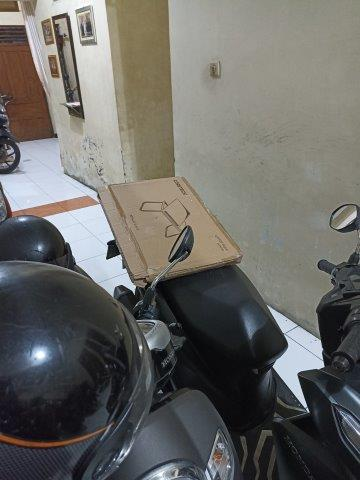kardus: (99, 178, 241, 285)
